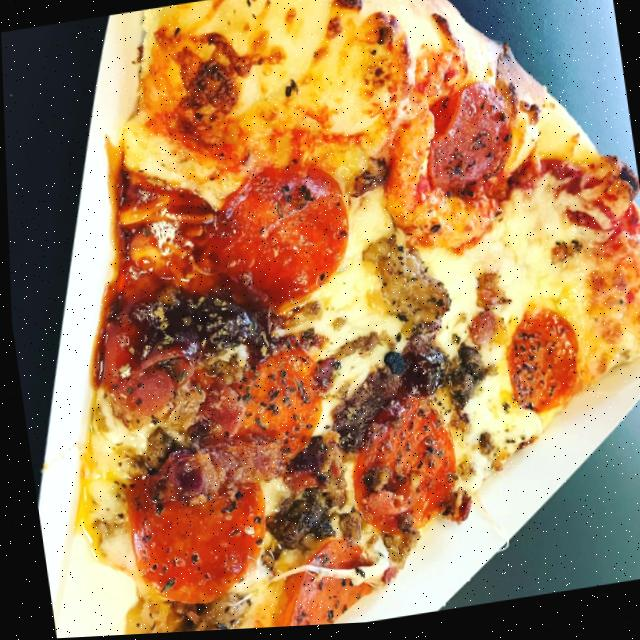pepperoni: (107, 439, 270, 617), (197, 155, 362, 317), (335, 387, 470, 543), (216, 330, 336, 476), (72, 267, 194, 399), (414, 80, 523, 209), (257, 520, 383, 630), (488, 297, 588, 425)
pizza: (11, 0, 640, 640)
